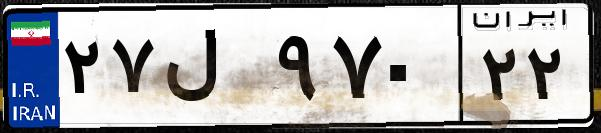0: (385, 28, 445, 110)
2: (57, 26, 110, 100), (475, 38, 525, 113), (525, 38, 570, 115)
7: (330, 28, 385, 110), (110, 28, 158, 98)
9: (270, 28, 330, 110)
ل: (158, 20, 270, 120)
